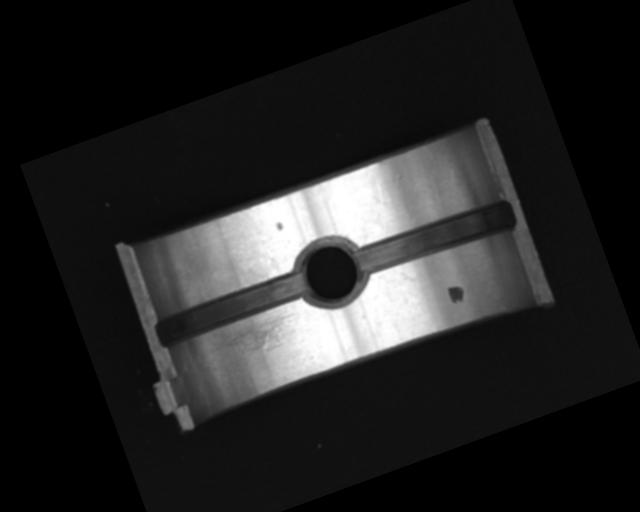blot: (445, 282, 467, 305)
bruise: (274, 219, 284, 232)
gap: (350, 194, 517, 283), (152, 267, 311, 350)
hole: (288, 230, 370, 317)
nick: (367, 183, 399, 239)
scratch: (205, 305, 308, 370)
